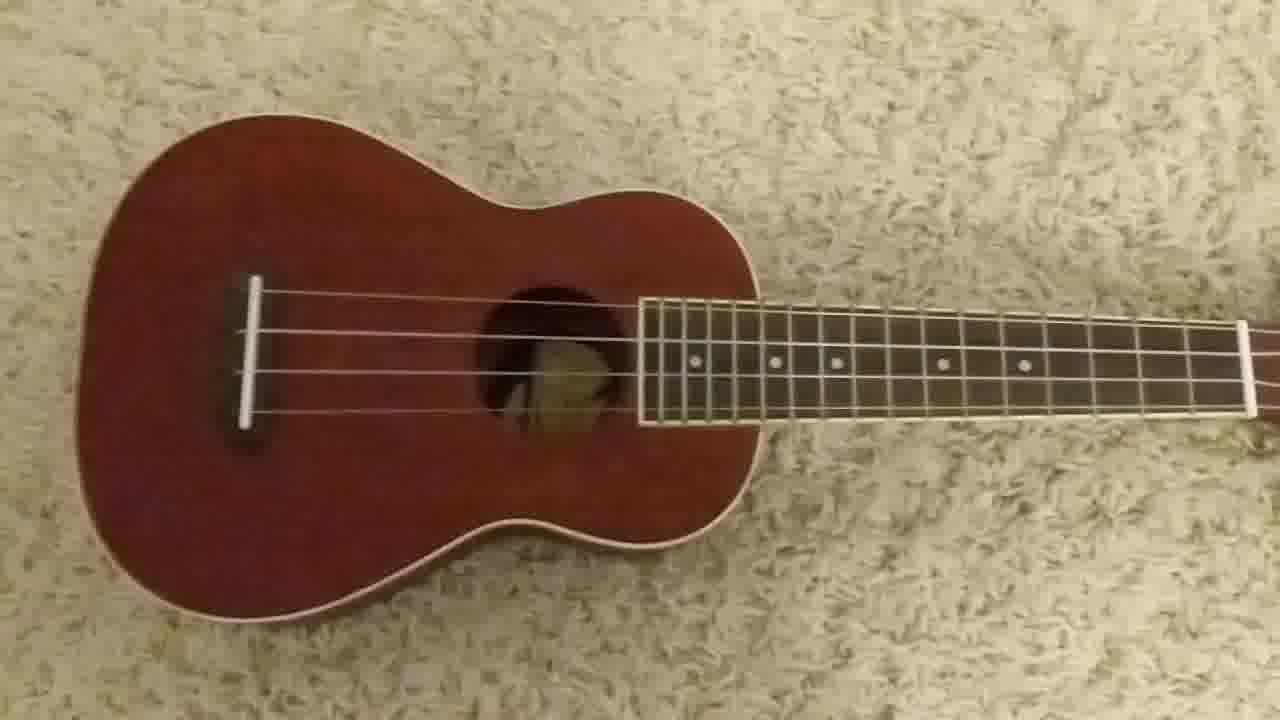Body: (75, 110, 772, 622)
Bridge: (222, 270, 277, 444)
